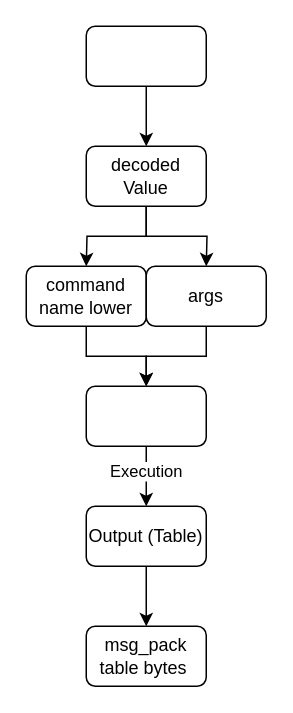
Image size: 293x713. Some labels were removed from this diagram. The centre of each missing label's shape, as x and y in pixels:
command: [145,415]
msg_pack value bytes: [145,55]
